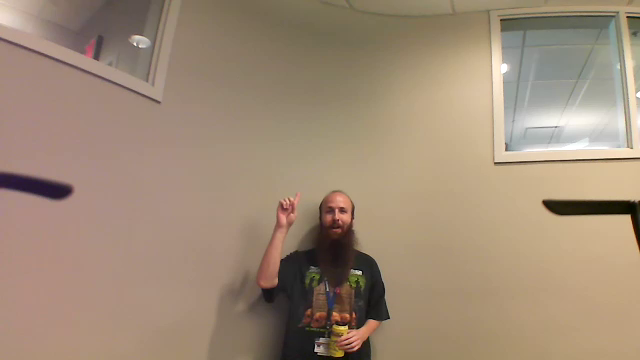up: (271, 188, 304, 232)
